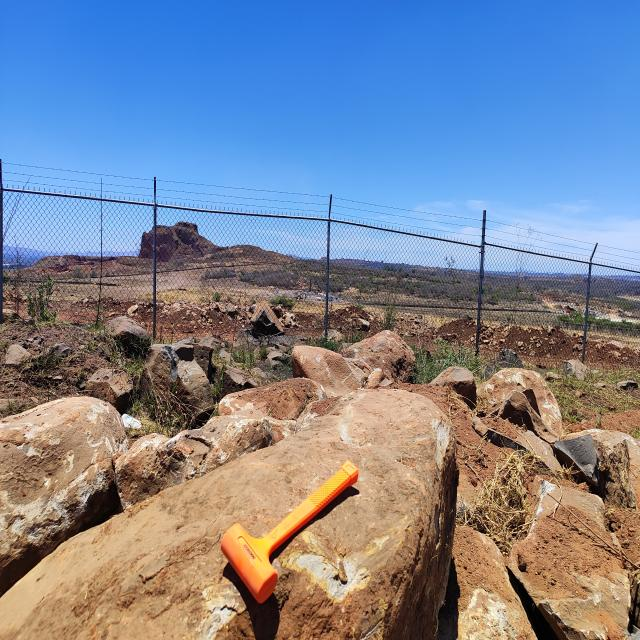Orange_hammer: (220, 458, 359, 604)
